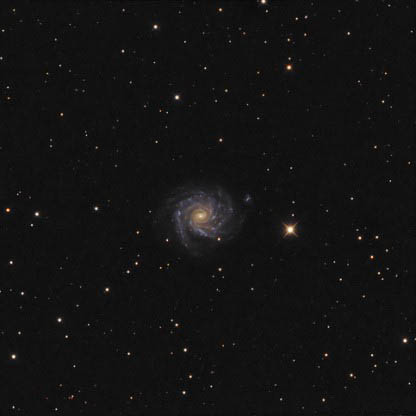NGC 1232: (154, 178, 257, 268)
